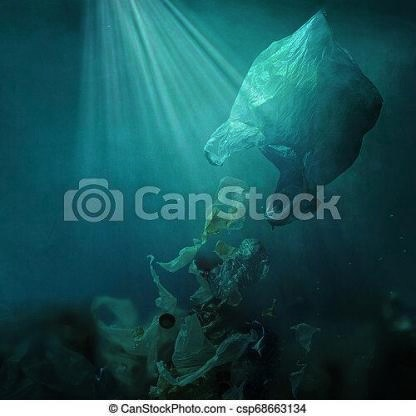pbag: (91, 177, 320, 399), (200, 6, 384, 226)
